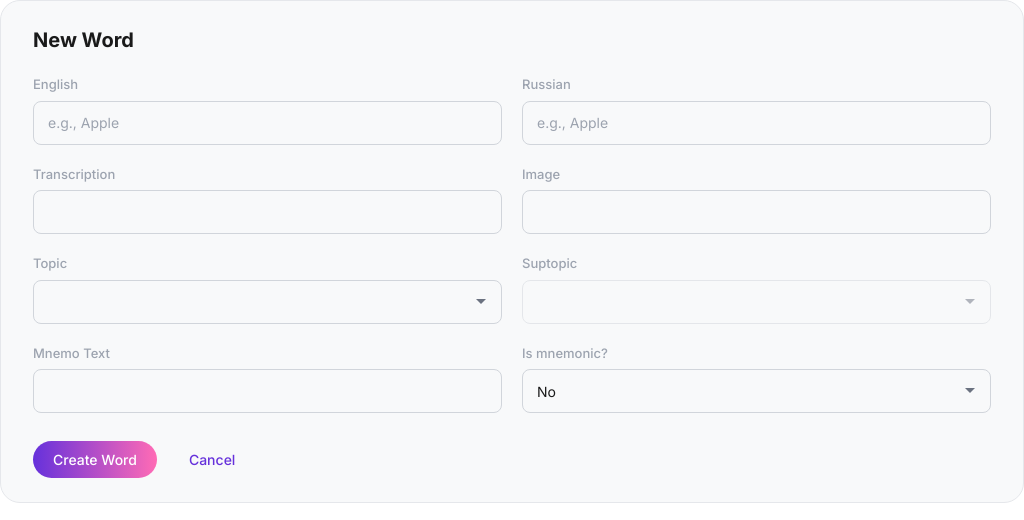
Scenario: AdminWordForm › selects topic + loads subtopics + enables subtopic select
The image size is (1024, 520).
Select "Food" in the dropdown labelled "Topic" at (268, 302), box [33,280,502,324]
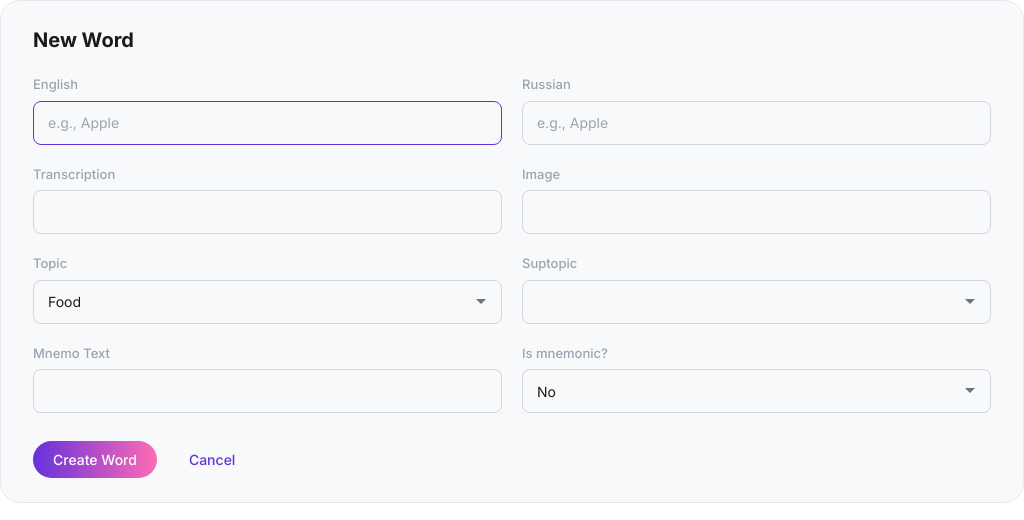
Result: the dropdown labelled "Suptopic" is enabled at [522,280,991,324]
